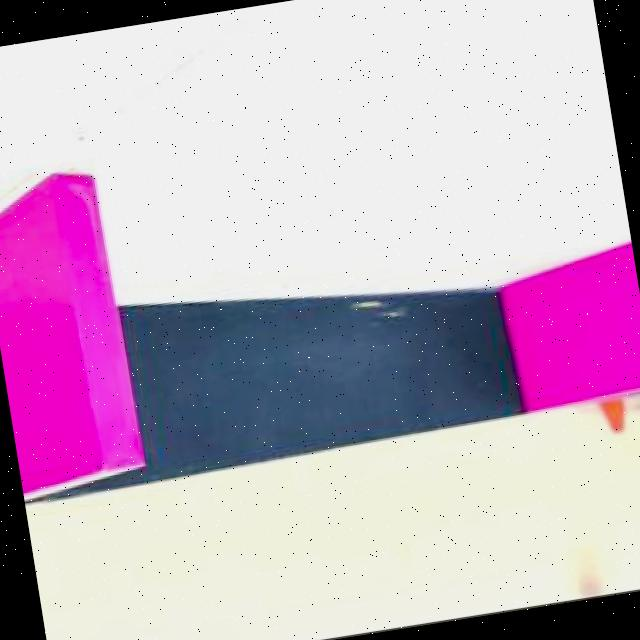xparking: (0, 181, 143, 484), (506, 255, 640, 406)
